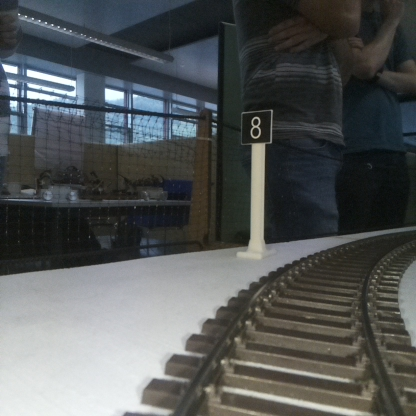black-info-8: (241, 111, 271, 256)
